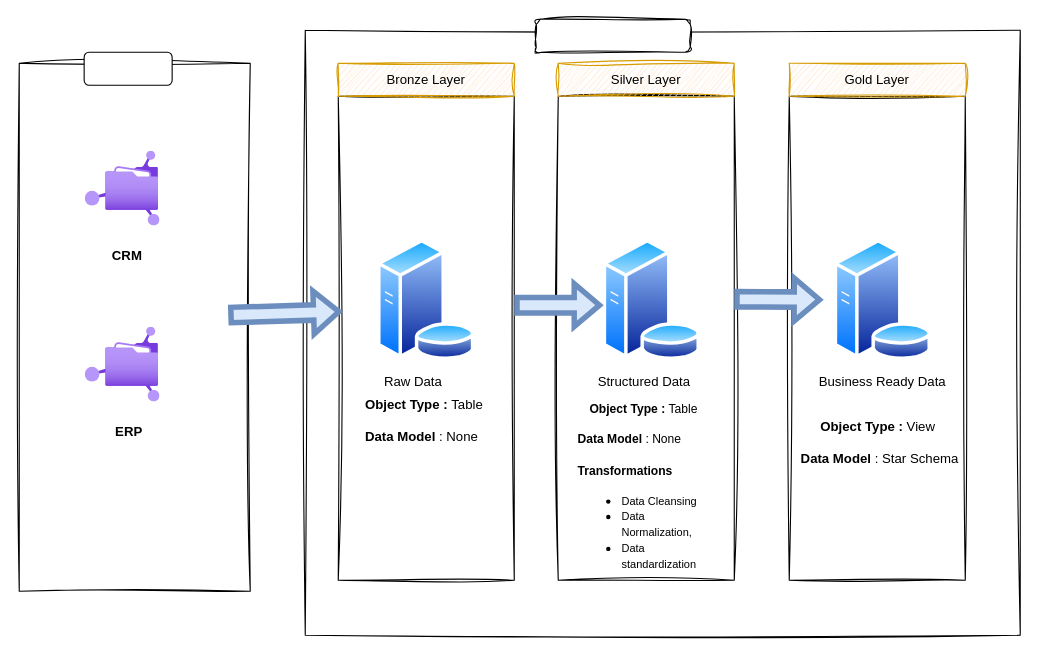
Image size: 1040x655. Some labels were removed from this diagram. Each missing label, with the centre of its shape:
DATA WAREHOUSE: [612,35]
SOURCES: [127,68]
